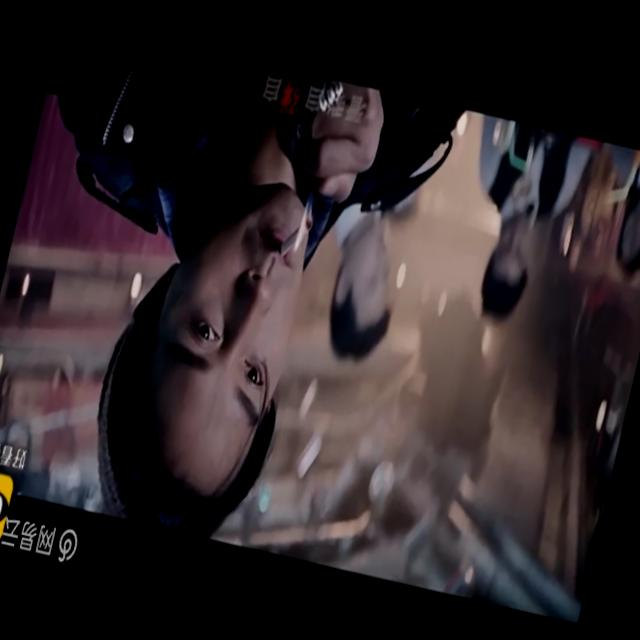smoke: (273, 216, 312, 268)
